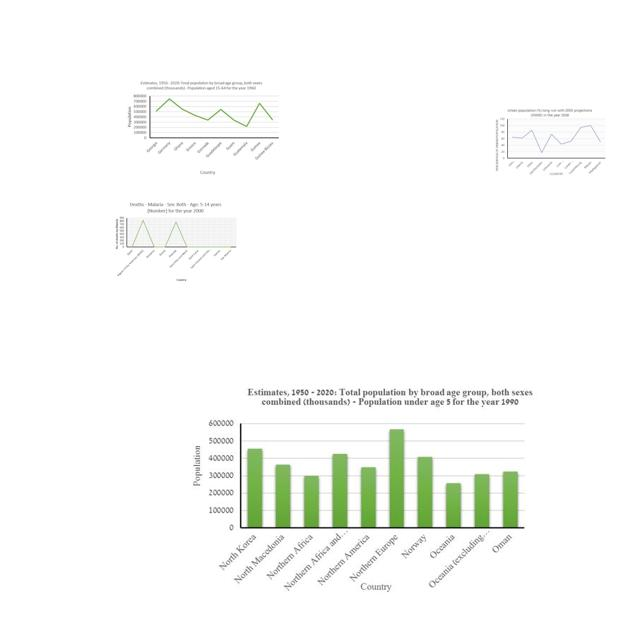Graph: (186, 383, 538, 597), (121, 79, 280, 175), (114, 200, 238, 284), (493, 107, 607, 176)
